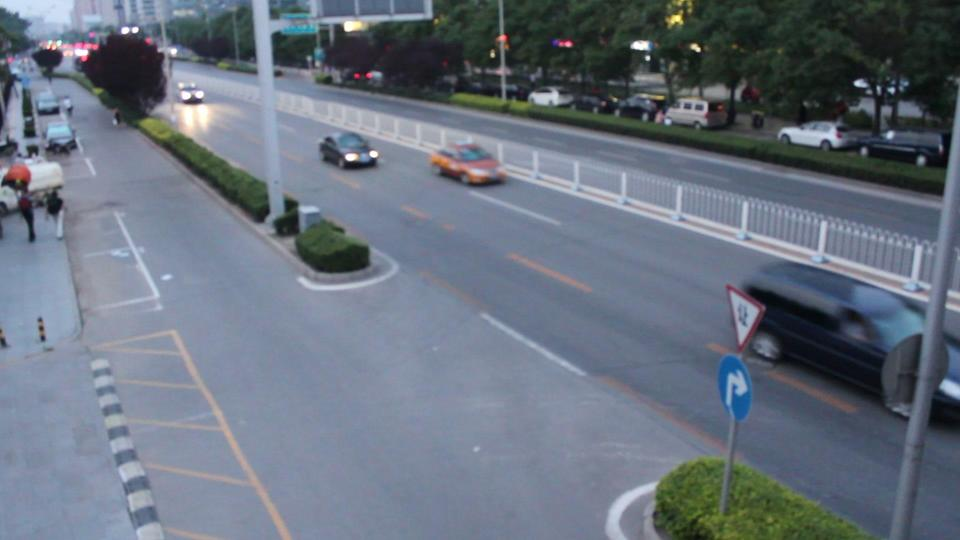car: (735, 258, 960, 434), (428, 142, 505, 184), (852, 131, 949, 164), (776, 121, 854, 151), (322, 134, 380, 170), (660, 101, 725, 129), (617, 93, 667, 122), (42, 118, 80, 154), (577, 91, 615, 119), (529, 85, 573, 109), (33, 88, 62, 114), (344, 67, 374, 88)
person: (9, 189, 42, 241), (46, 184, 72, 240)
sign: (718, 279, 763, 427)
traffic light: (181, 86, 205, 103), (494, 33, 509, 59)
truck: (0, 164, 61, 207)
